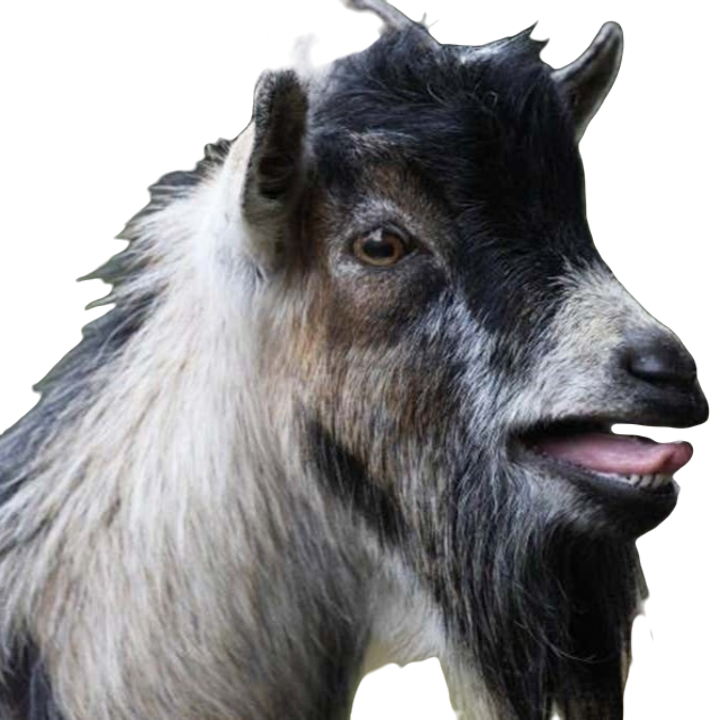Goat: (1, 3, 713, 719)
